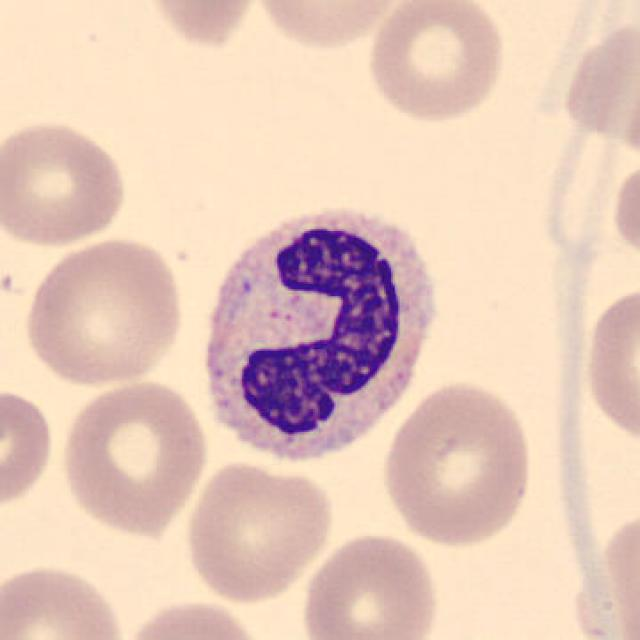Neutrophil: (188, 194, 449, 479)
RBC: (377, 376, 539, 550), (20, 232, 188, 390), (55, 376, 212, 540), (180, 456, 338, 604), (363, 0, 510, 127), (0, 114, 132, 250), (297, 529, 444, 640), (558, 12, 638, 162), (0, 557, 130, 640), (579, 278, 640, 453), (250, 0, 412, 53), (0, 381, 57, 516), (119, 596, 272, 640), (138, 0, 263, 49), (597, 499, 640, 640), (608, 153, 638, 270)
